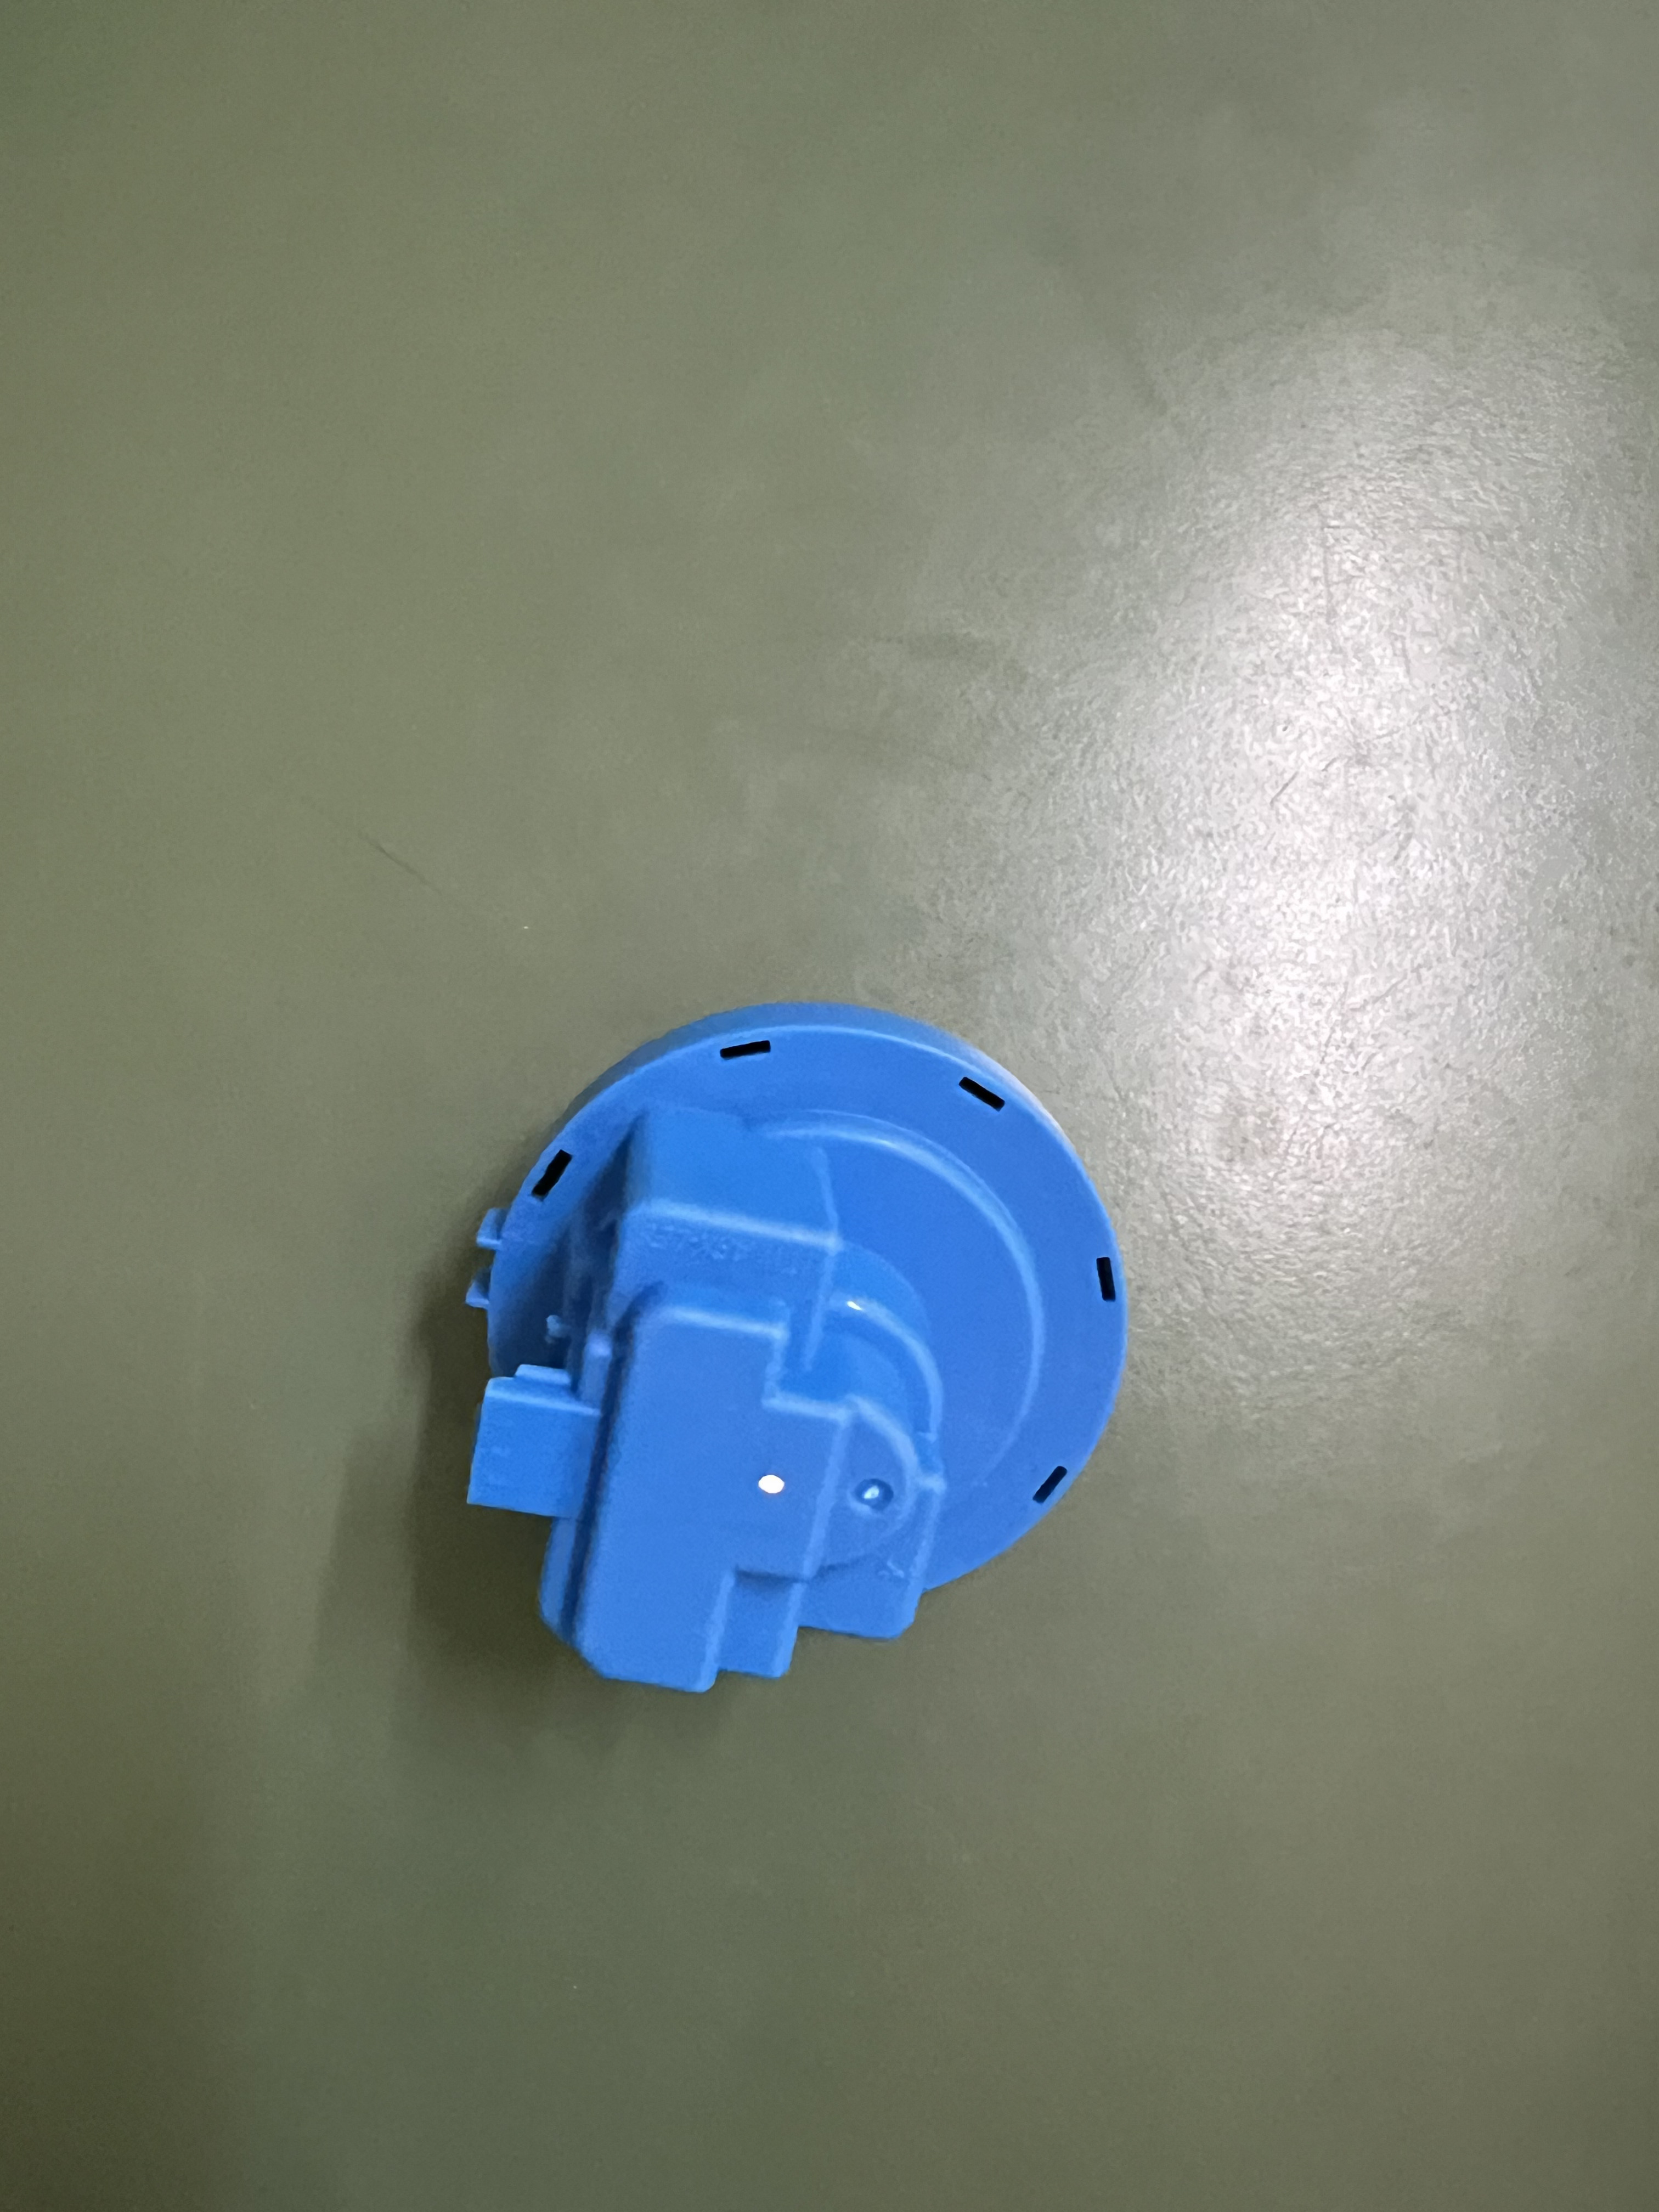voltas_beko_pressure_switch: (403, 970, 1169, 1714)
